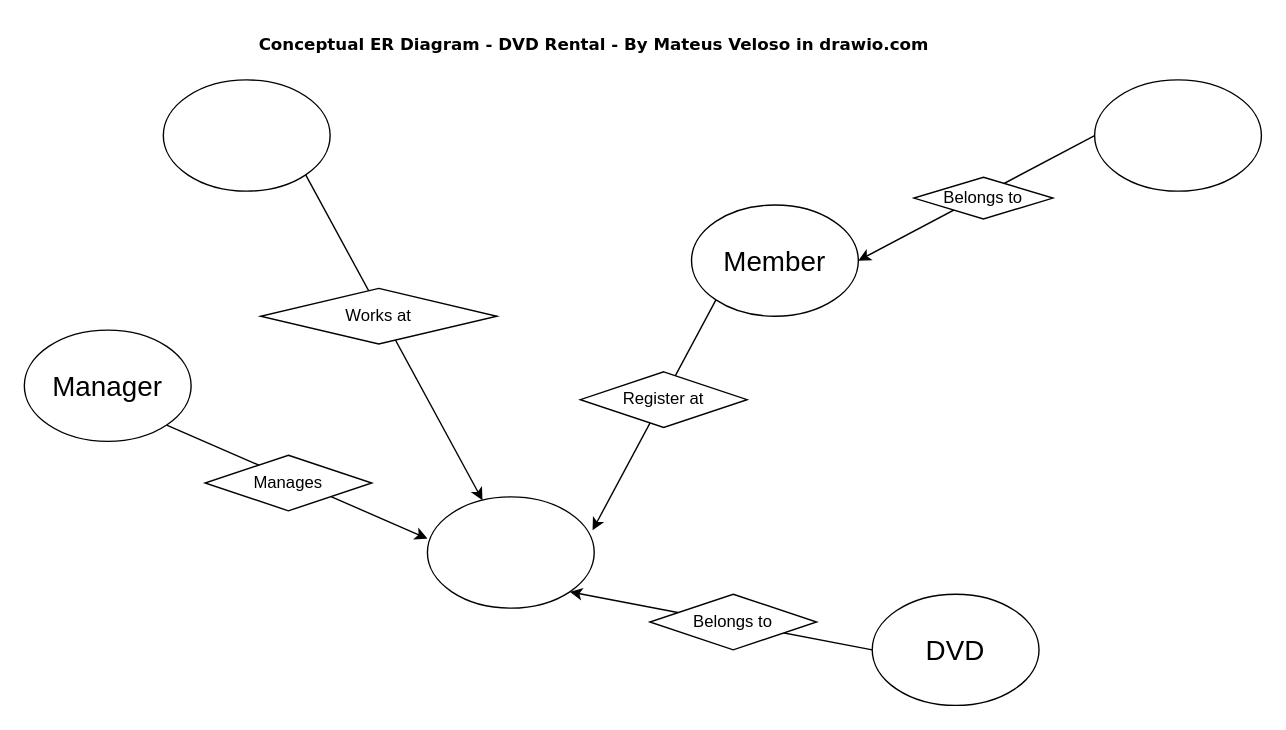
The diagram is 1286 pixels wide and 730 high, and some of its shapes have lost their labels. Each missing label, with the centre of its shape:
"Branch" belongs at [510,552].
"Rental" belongs at [1177,135].
"Staff" belongs at [246,135].
